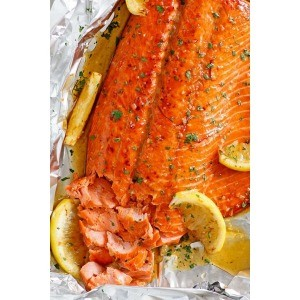salmon_brain food: (75, 25, 236, 279)
